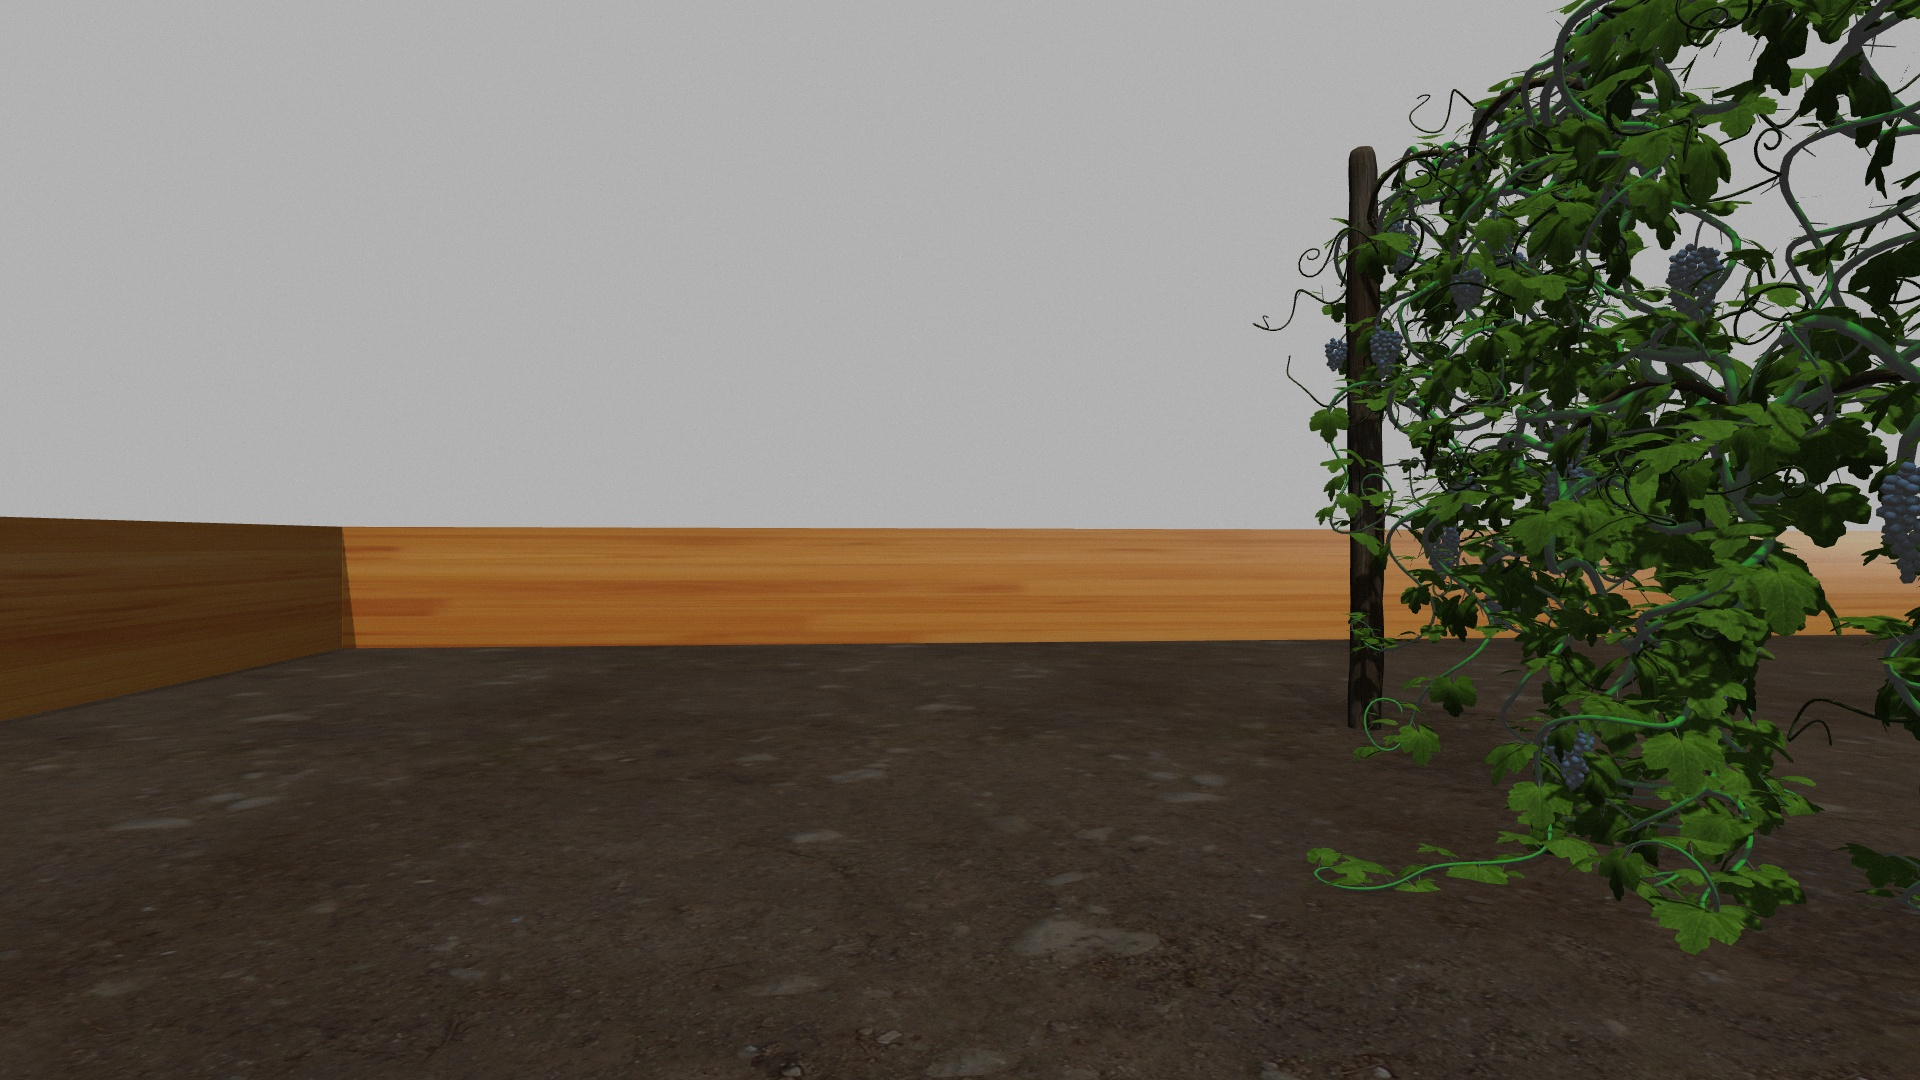grape: (1667, 243, 1724, 324), (1879, 460, 1913, 585), (1543, 727, 1596, 790), (1423, 524, 1461, 575), (1370, 320, 1404, 375), (1451, 268, 1485, 309), (1324, 336, 1346, 376)
